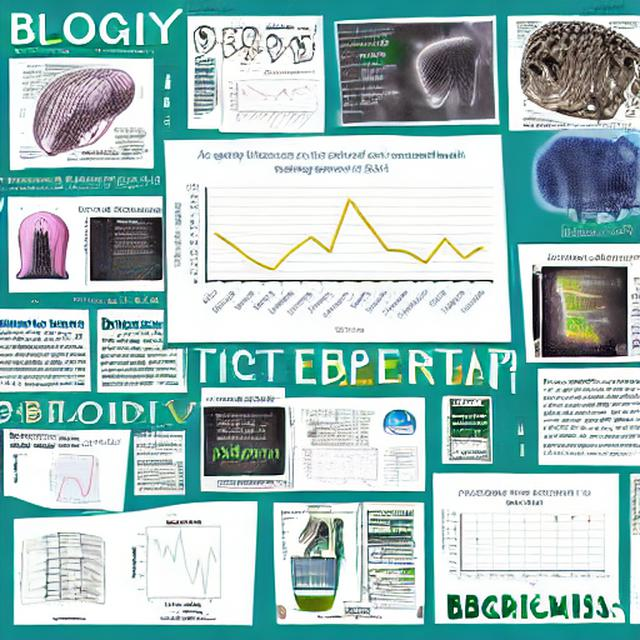Graph: (167, 143, 499, 340), (436, 485, 614, 592), (120, 515, 244, 608), (219, 76, 315, 131), (41, 451, 113, 505), (300, 437, 380, 485), (204, 431, 282, 476), (105, 248, 163, 281)
